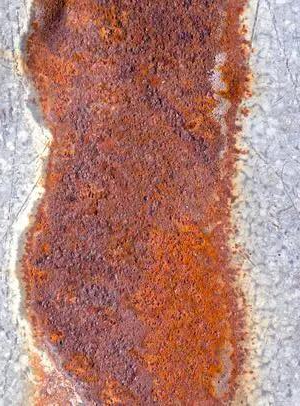Corrosion: (14, 1, 256, 406)
